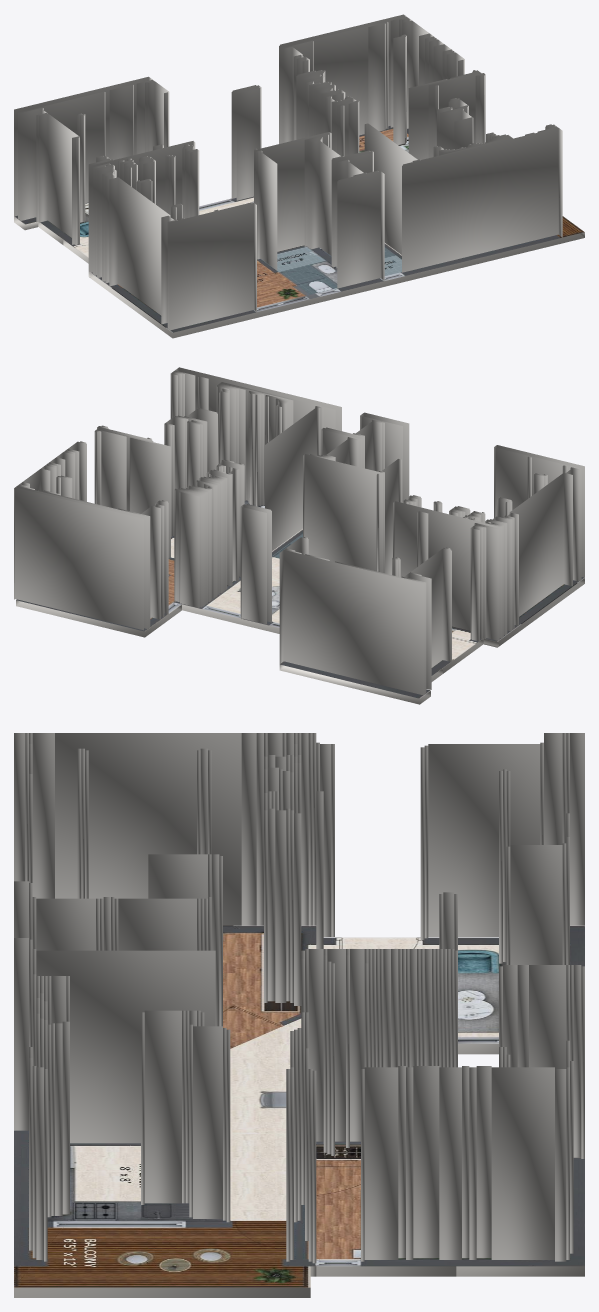
Rendered from SPR_unit_E_conceptual.glb.
3 views of the same model, one above another, from view 1: azimuth 30°, elevation 25°; view 2: azimuth 150°, elevation 25°; view 3: azimuth 270°, elevation 25° (orthographic). The views are drawn at different scales.
Parts seen in each view (by area): view 1: UnitE_walls_from_plan, UnitE_floor_brochure_plan, UnitE_slab; view 2: UnitE_walls_from_plan, UnitE_floor_brochure_plan, UnitE_slab; view 3: UnitE_walls_from_plan, UnitE_floor_brochure_plan, UnitE_slab.
Part boxes in pixels (<box>): UnitE_walls_from_plan: <box>14,14,562,330</box>; UnitE_floor_brochure_plan: <box>14,126,584,332</box>; UnitE_slab: <box>14,217,584,338</box>; UnitE_walls_from_plan: <box>14,367,584,695</box>; UnitE_floor_brochure_plan: <box>16,500,584,698</box>; UnitE_slab: <box>16,578,584,704</box>; UnitE_walls_from_plan: <box>14,733,584,1263</box>; UnitE_floor_brochure_plan: <box>14,925,584,1287</box>; UnitE_slab: <box>14,1044,584,1297</box>.
Bounding box in the file's own units: 11.66 × 3.05 × 7.77.
3 materials, 1 textured.
